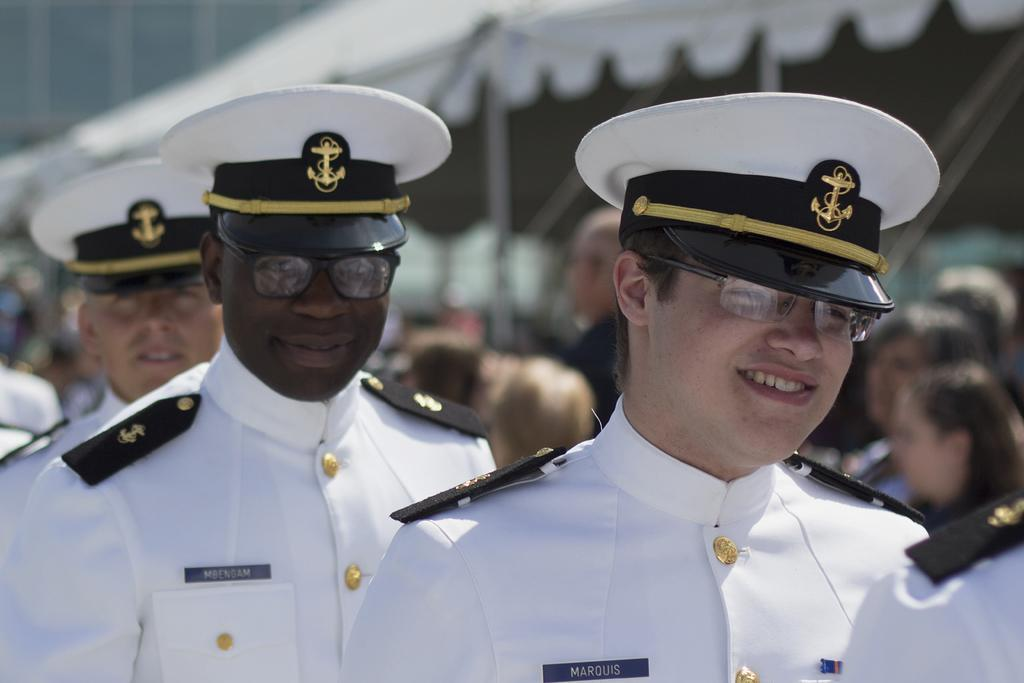Hat: (570, 96, 942, 308), (153, 78, 450, 263), (28, 154, 218, 288)
